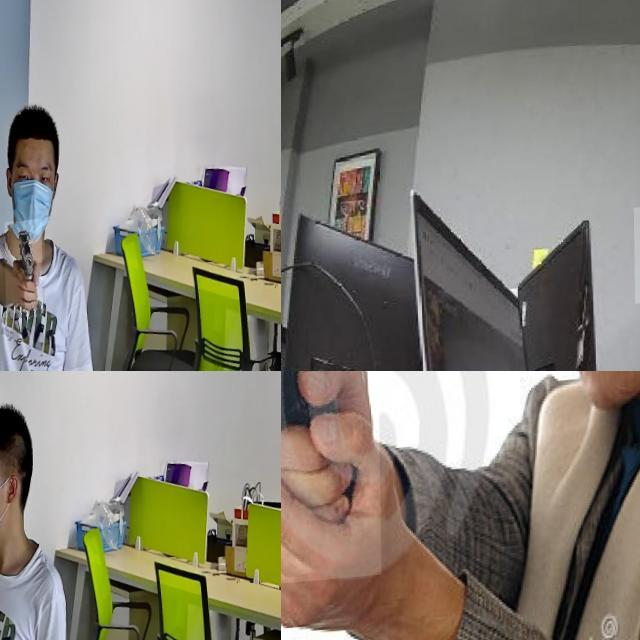gun-knife-thesis - v11 Yolov5 augmented: (281, 371, 382, 594), (4, 226, 42, 324), (0, 522, 33, 627)
